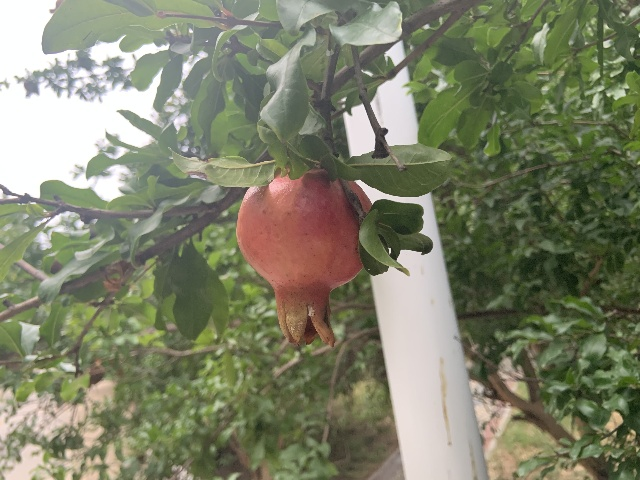ripe: (235, 167, 371, 347)
